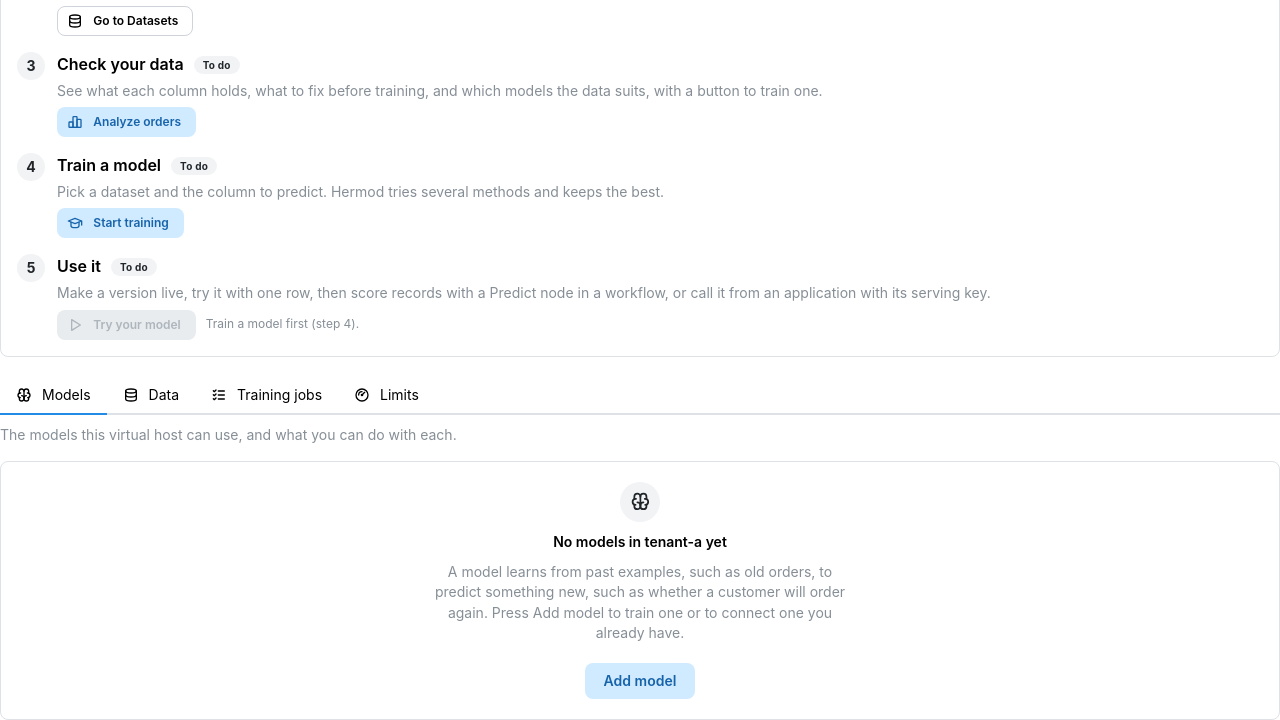
Test: Analyzing a dataset › says what the data holds, that it was sampled, and what to fix and how
(page scrolled)
Click the tab "Data" at (151, 396), box [107,376,195,414]
(page scrolled)
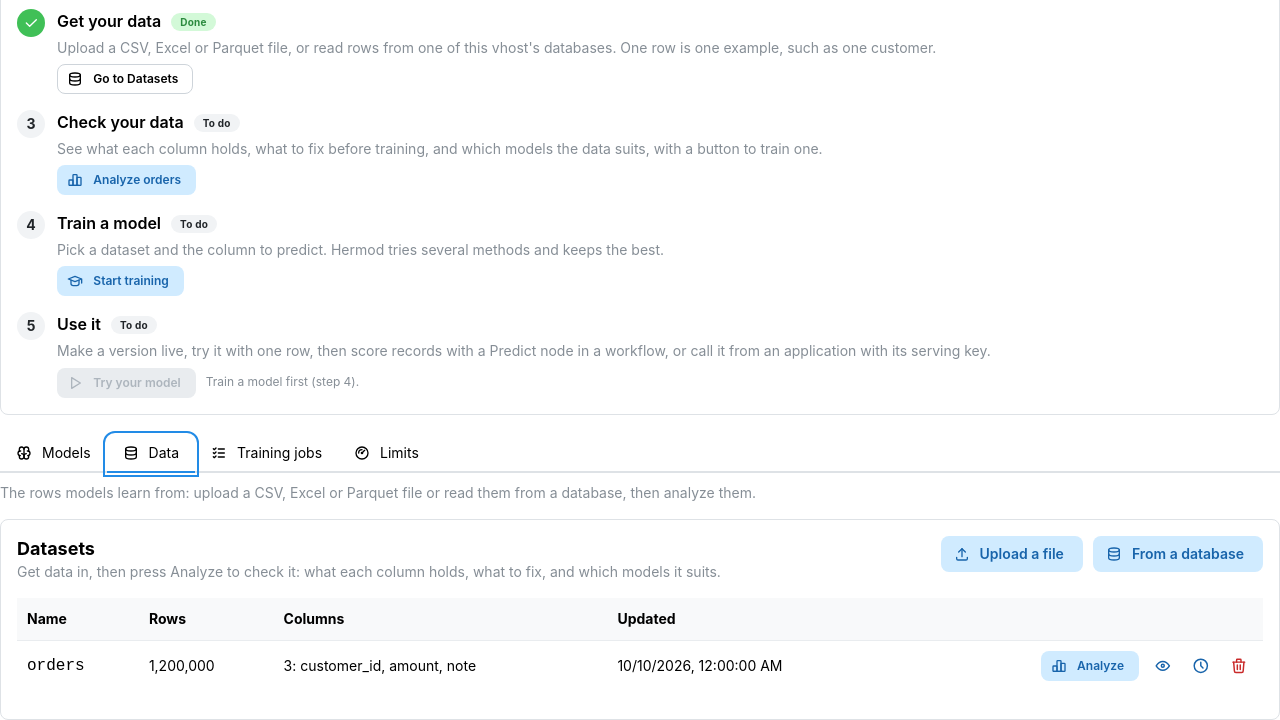
Click the button with aria-label "Analyze orders" at (1090, 666), box [1041,651,1139,681]
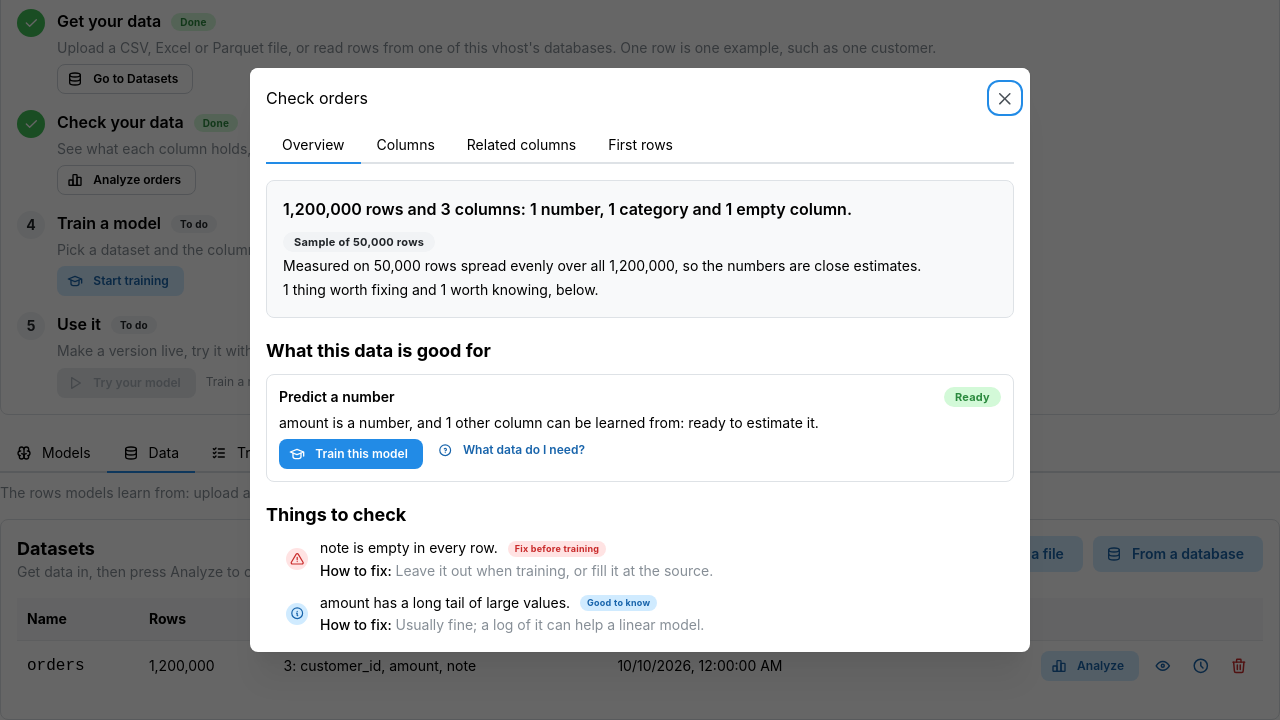
Expected: the text "1,200,000 rows and 3 columns" is shown, [283,199,852,219]
Expected: the text "Measured on 50,000 rows spread evenly over all 1,200,000" is shown, [283,257,921,274]
Expected: the list item that starts with "note is empty in every row." is shown, [320,540,498,556]
